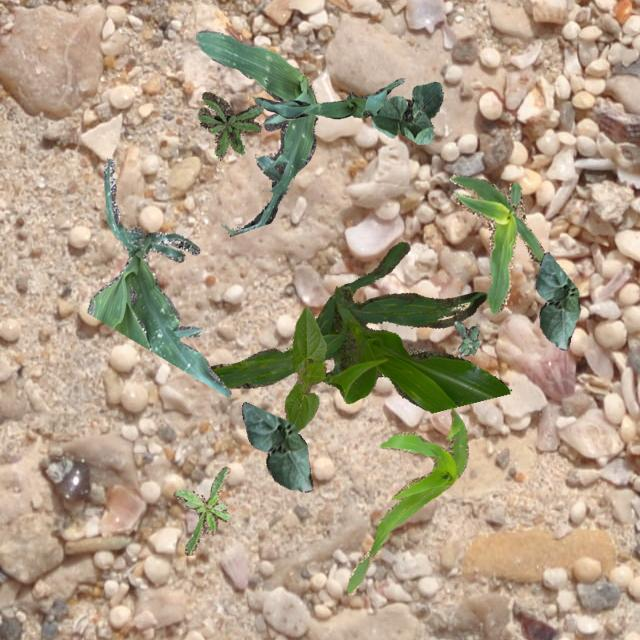crop: (208, 240, 508, 412), (86, 157, 230, 396), (195, 28, 316, 235), (346, 406, 468, 594), (449, 172, 544, 312), (240, 402, 312, 491), (254, 76, 404, 118), (284, 306, 326, 432), (370, 80, 442, 144), (534, 250, 580, 348)
weed: (172, 466, 228, 554), (196, 90, 262, 158), (452, 320, 480, 354)
